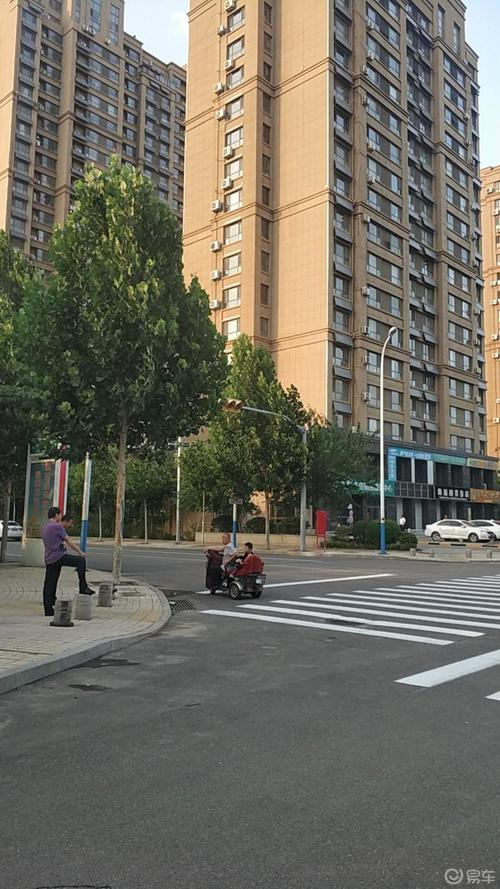car: (425, 521, 494, 542), (1, 520, 23, 553), (468, 520, 500, 539)
motorcycle: (202, 551, 267, 602)
person: (41, 505, 88, 621), (218, 532, 235, 578), (241, 540, 252, 566), (398, 514, 409, 532)
traffic light: (218, 395, 241, 415)
